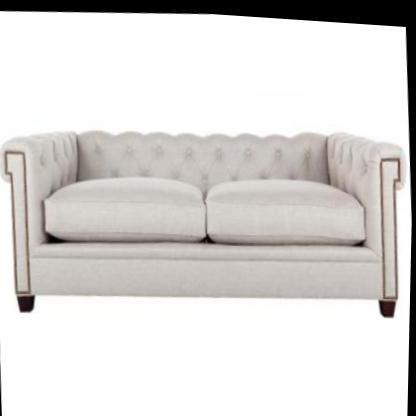Sofa: (0, 101, 414, 335)
